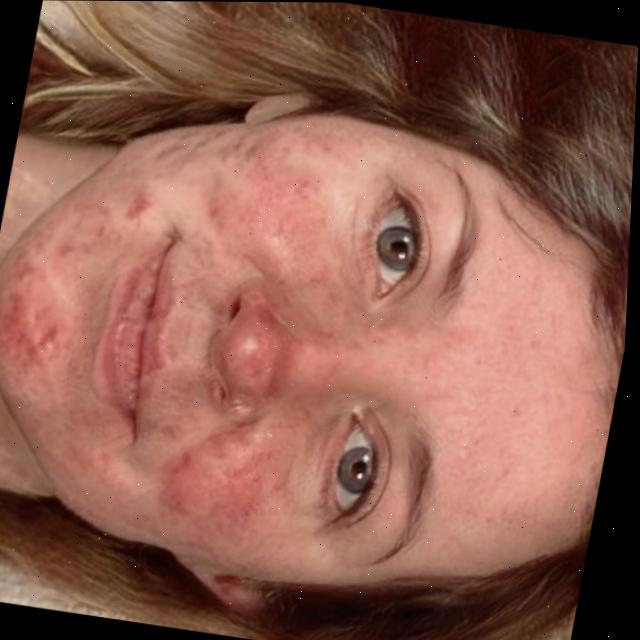Rosacea: (114, 129, 344, 274), (166, 383, 304, 547), (0, 266, 74, 394)
